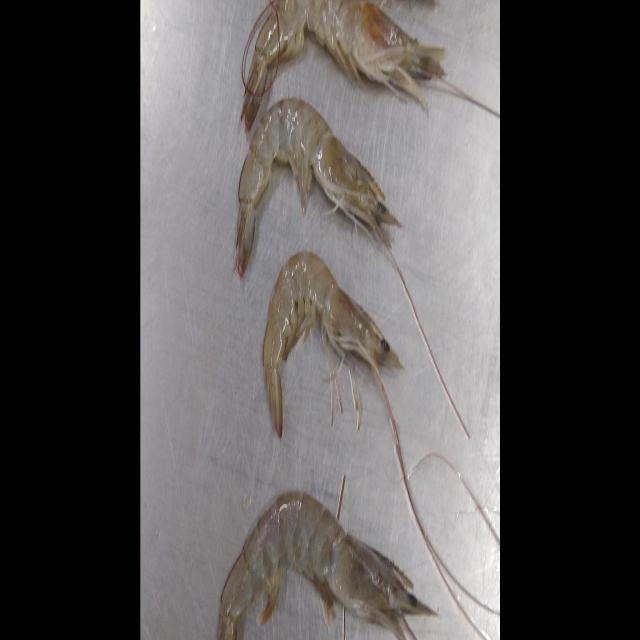shrimp: (216, 491, 436, 640), (235, 98, 400, 278), (241, 0, 445, 131), (262, 251, 401, 438)
